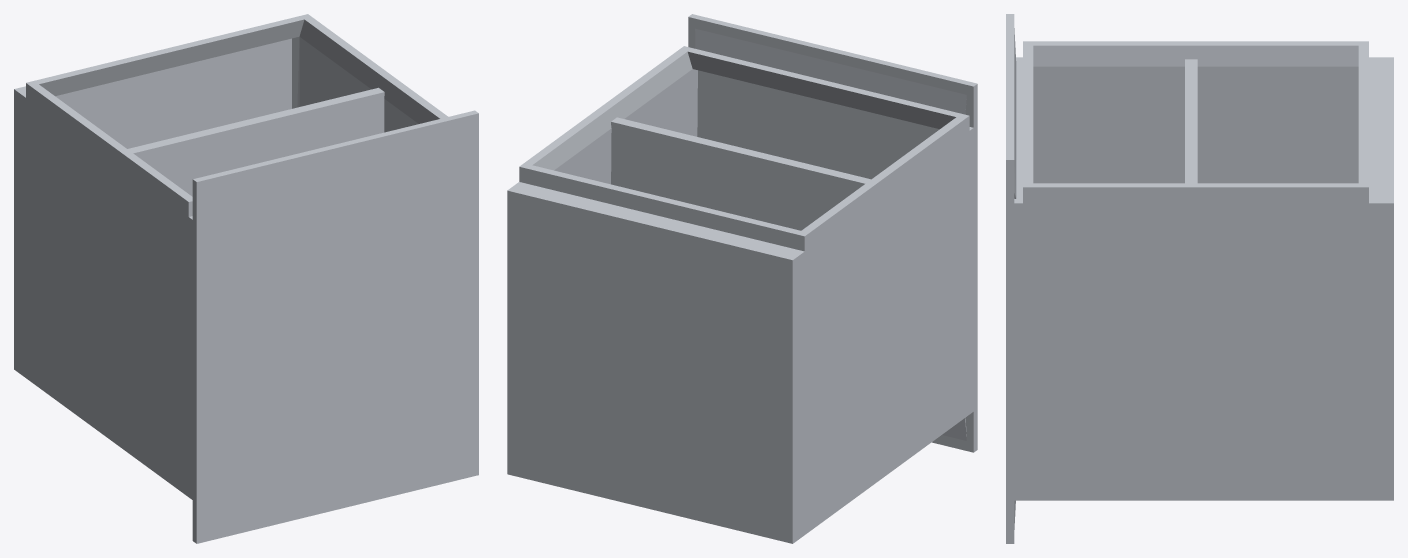
File: counter_counter_2_shelves.obj
3 renders of one model, left to right at view 1: azimuth 30°, elevation 25°; view 2: azimuth 150°, elevation 25°; view 3: azimuth 270°, elevation 25°, orthographic. The views are drawn at different scales.
Visible parts, largest first — view 1: Cube.431; view 2: Cube.431; view 3: Cube.431.
Part boxes in pixels (<box>): Cube.431: <box>14,14,478,543</box>; Cube.431: <box>507,14,977,543</box>; Cube.431: <box>1006,14,1393,543</box>.
Size of the model in its own units: 0.6202 by 0.7599 by 0.6957.
Materials: 1 (1 with a texture image).
